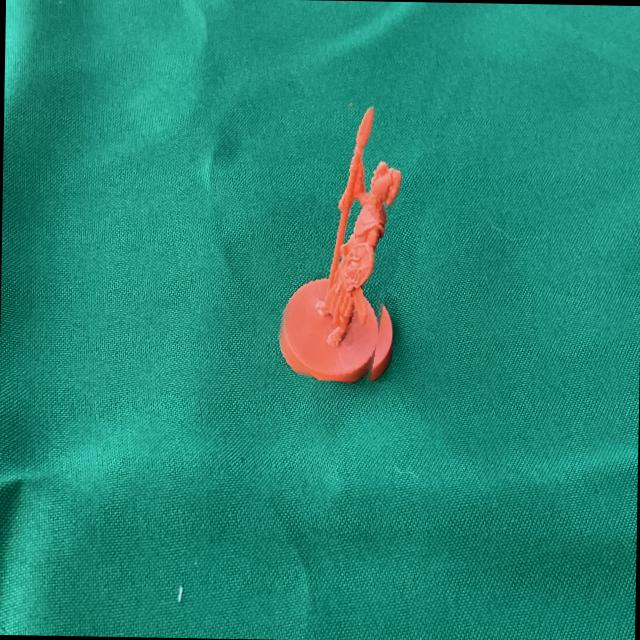amon_follower: (278, 106, 402, 384)
